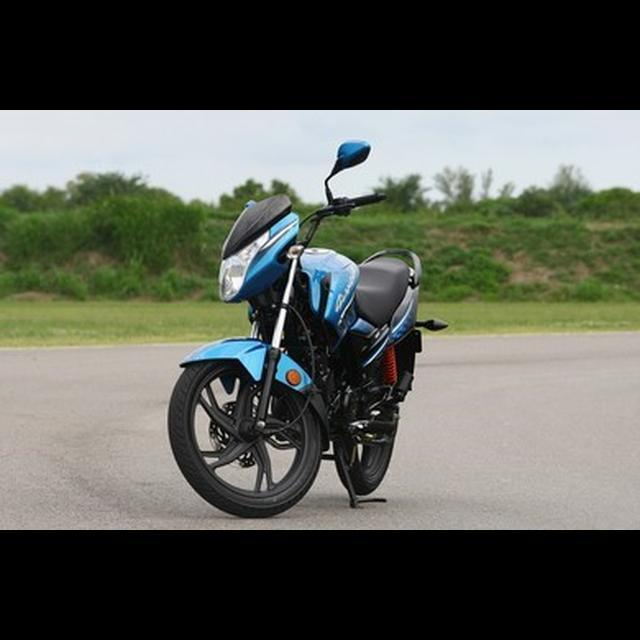motorcycle: (165, 135, 455, 525)
